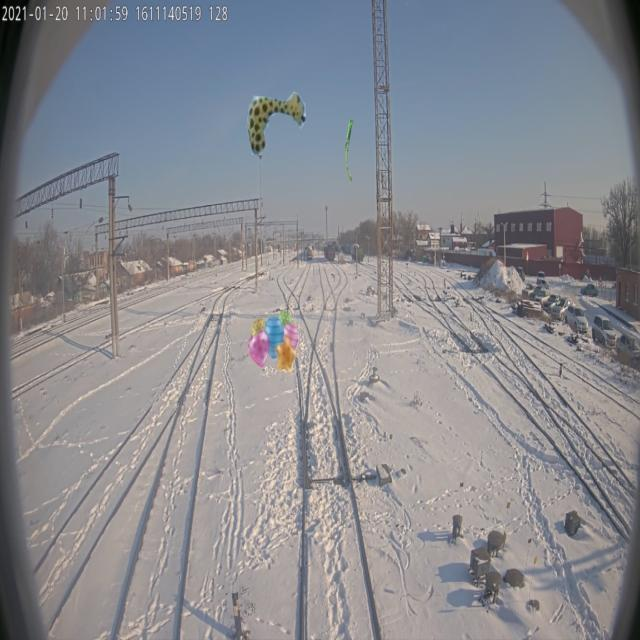balloon: (248, 310, 300, 374)
floating object: (246, 90, 306, 154), (346, 119, 354, 183)
